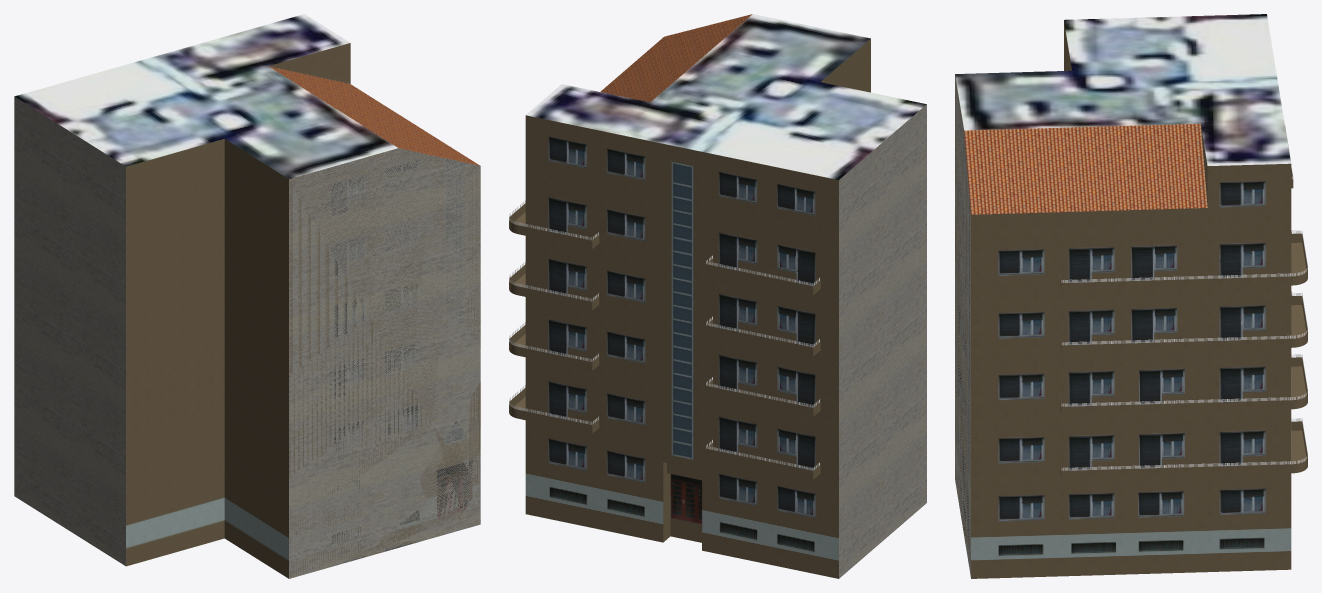
File: Building009.dae
The picture shows the model from 3 angles, left to right: view 1: azimuth 30°, elevation 25°; view 2: azimuth 150°, elevation 25°; view 3: azimuth 270°, elevation 25°; orthographic projection.
Visible parts, largest first — view 1: SketchUp (×6); view 2: SketchUp (×22); view 3: SketchUp (×13).
Part boxes in pixels (x1=…): SketchUp (×6): x1=14, y1=14, x2=480, y2=578; SketchUp (×22): x1=509, y1=14, x2=926, y2=578; SketchUp (×13): x1=955, y1=14, x2=1307, y2=578.
Bounding box in the file's own units: 909 × 829 × 1053.
14 materials, 14 textured.
